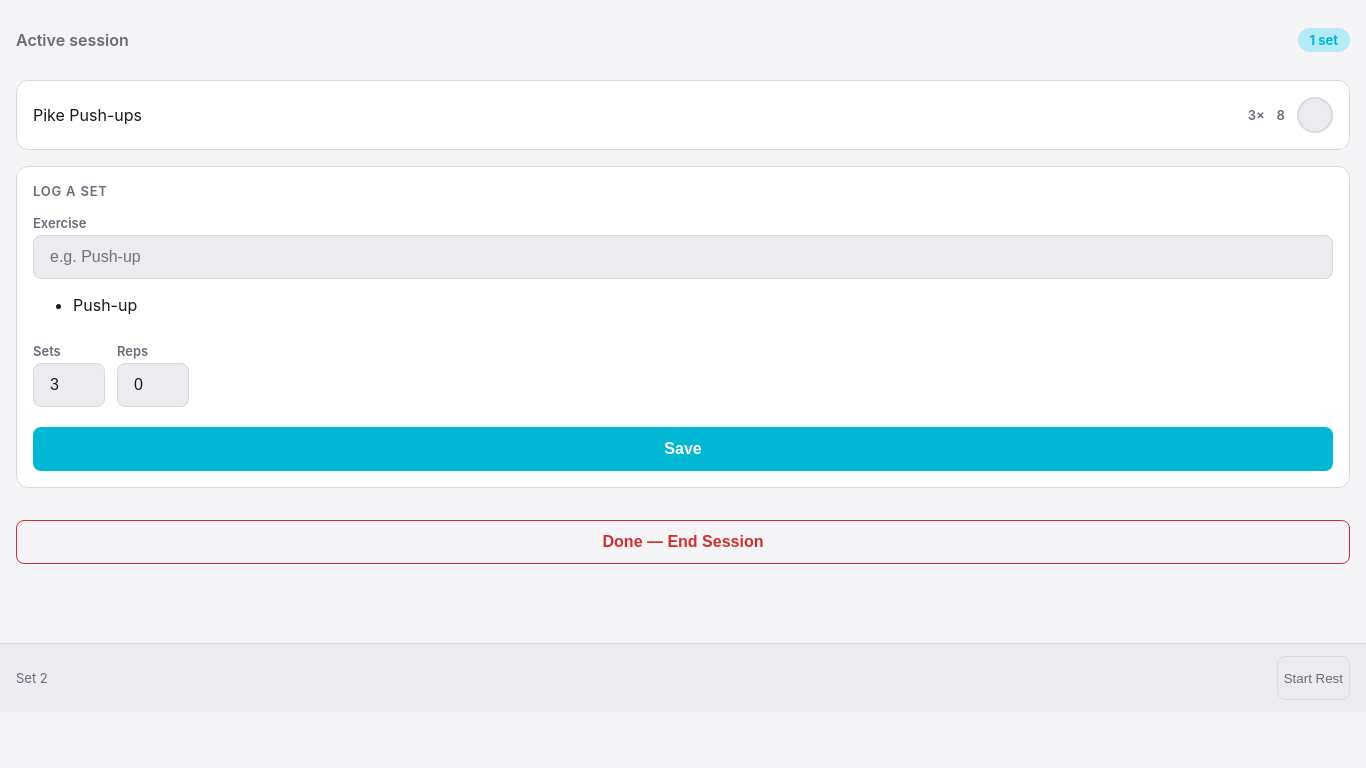
Scenario: SessionScreen BEM class structure (step 01-04) › completed exercise row renders with className containing 'session__exercise--done'
Click the button with class "session__complete-btn" at (1315,115), box [1297,97,1333,133]
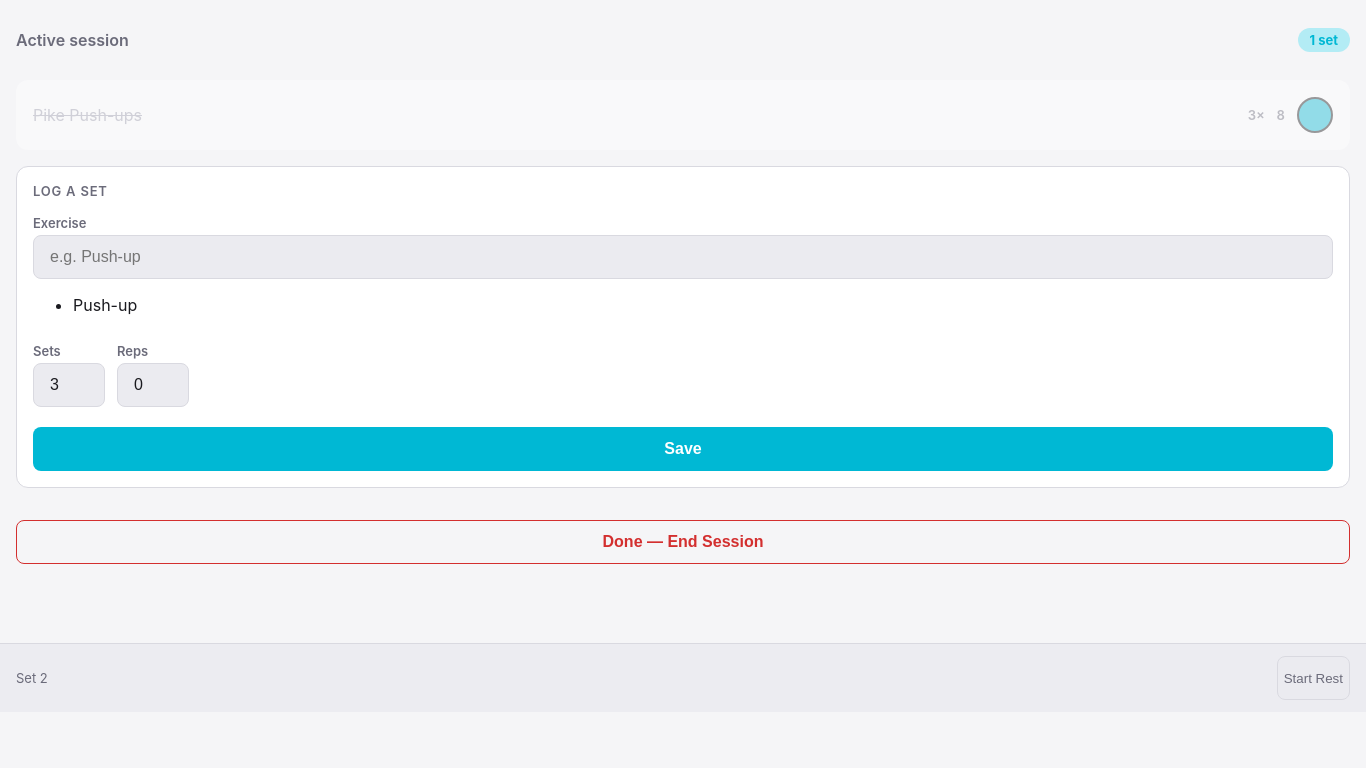
Result: the element with class "session__exercise--done" is shown at [16,80,1350,150]
